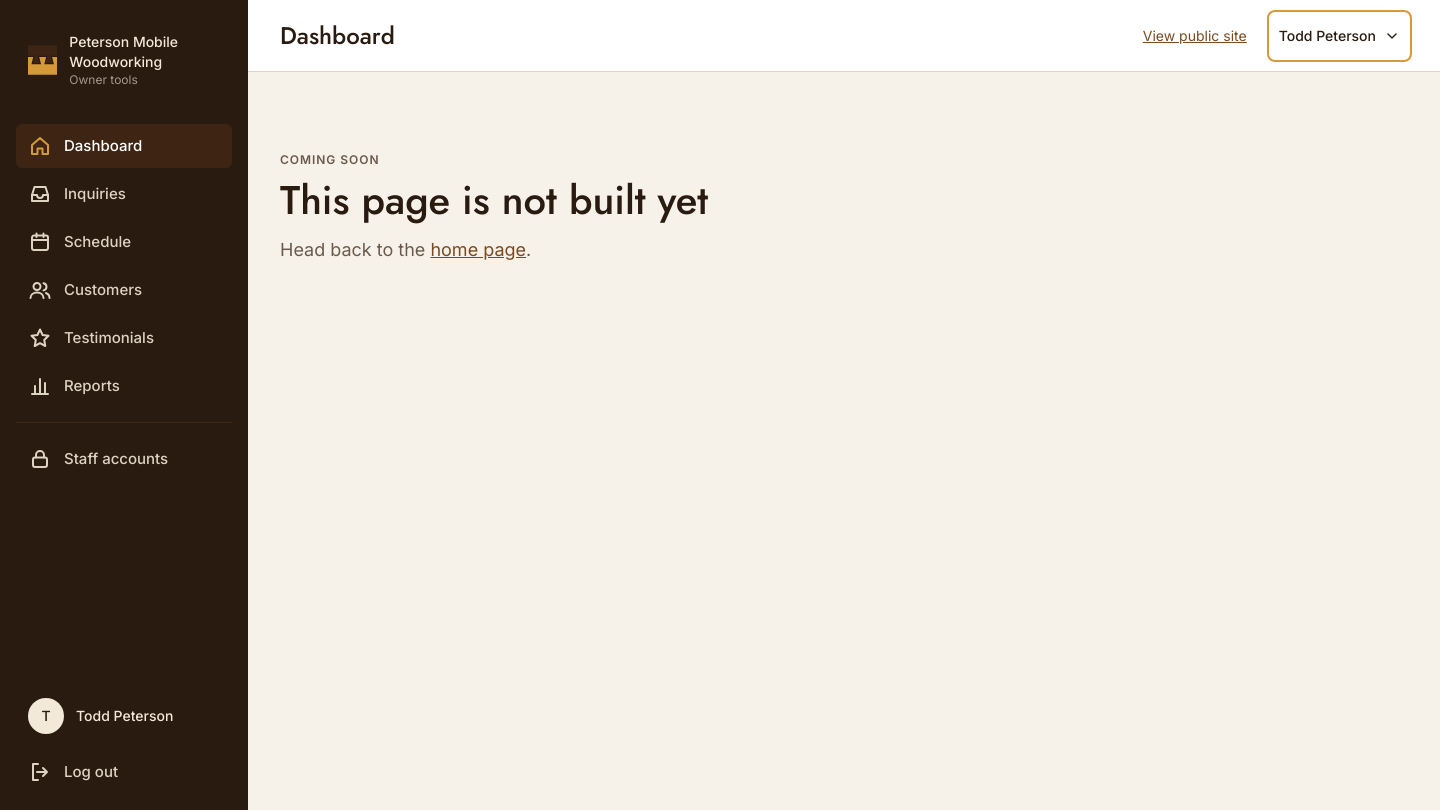
Test: Portal account logout with shared auth and route guards › supports keyboard opening and Escape, Tab, and outside dismissal
Press Arrowdown
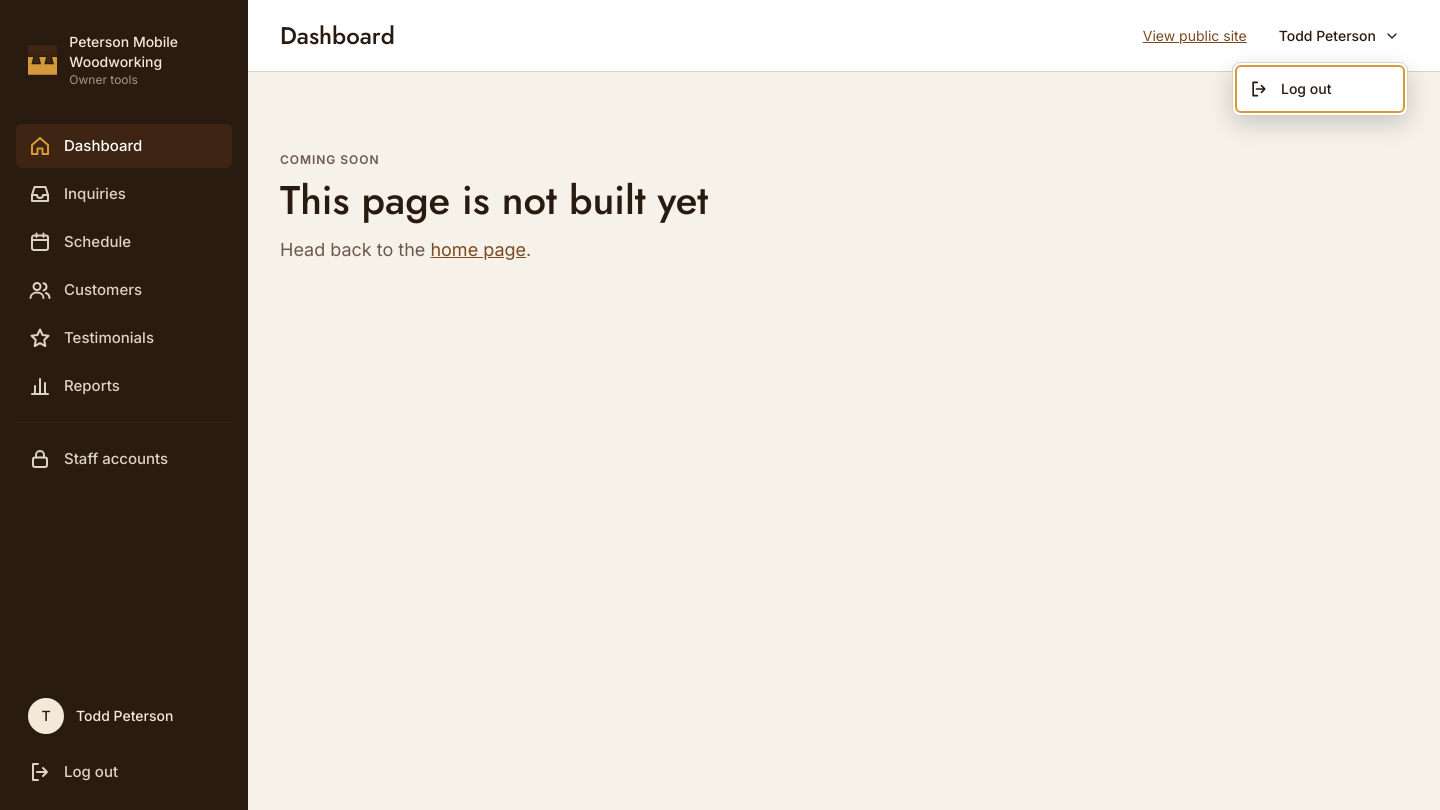
Press Escape
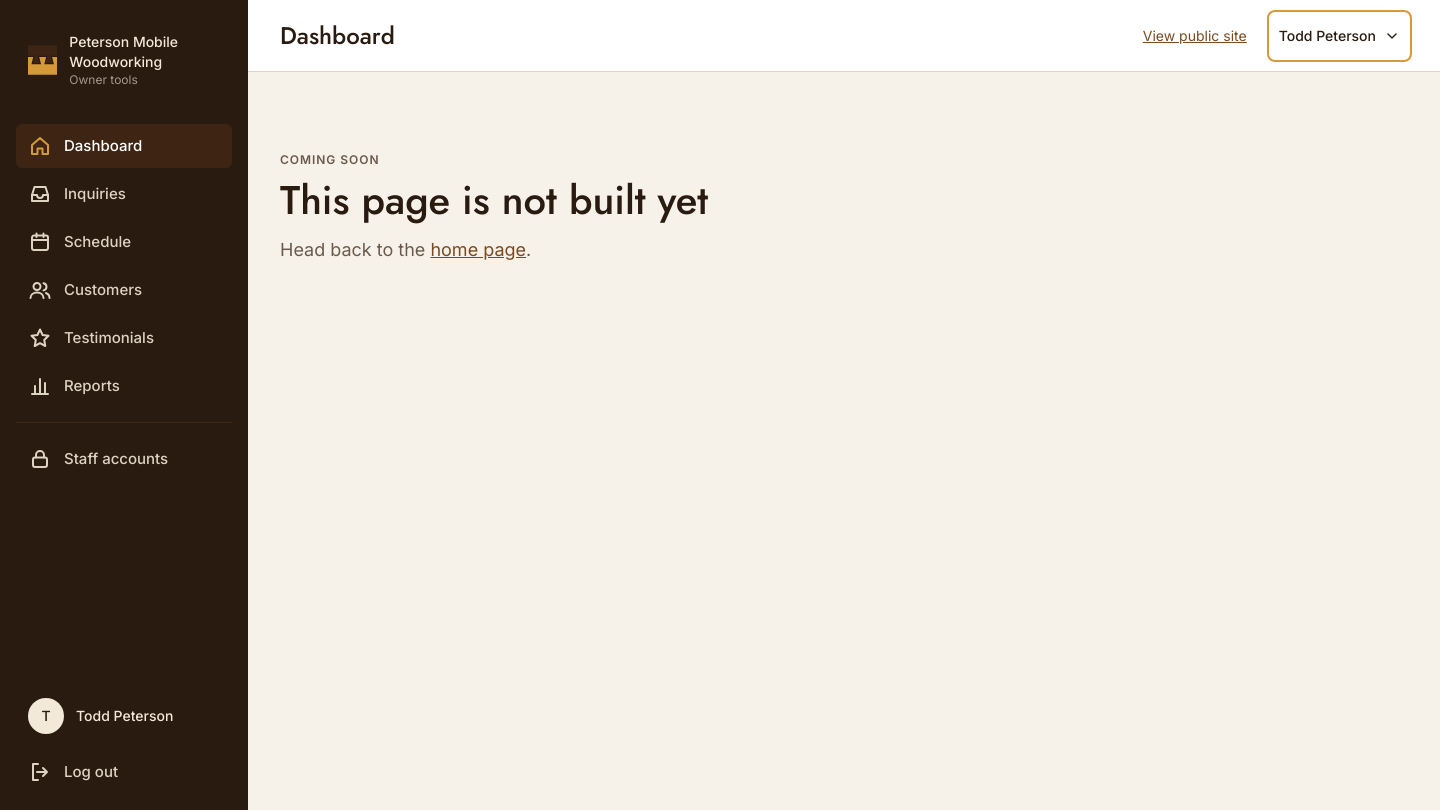
Now the menu is gone
Click the button with aria-label "Account menu for": click(1339, 36) [1271,14,1408,58]
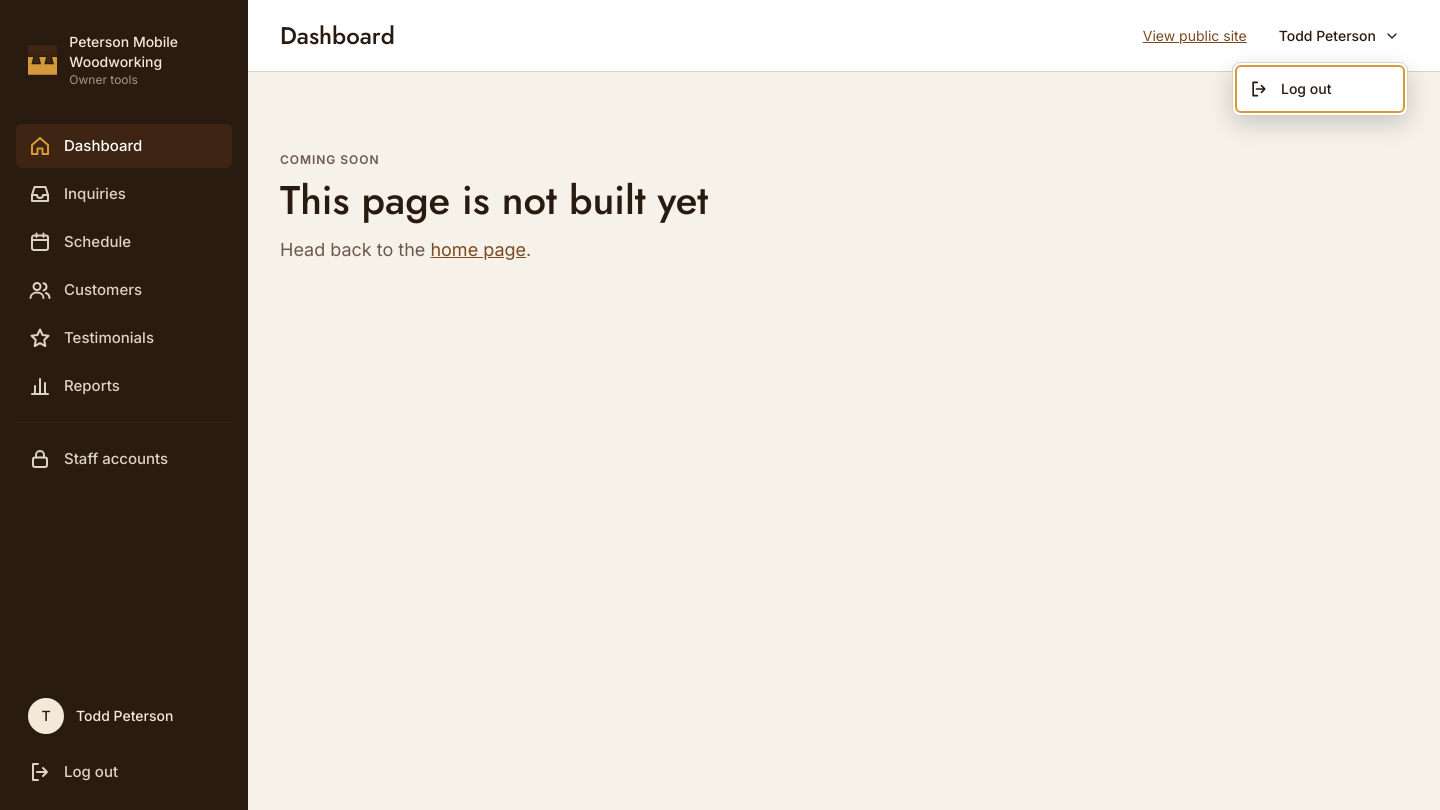
Press Tab
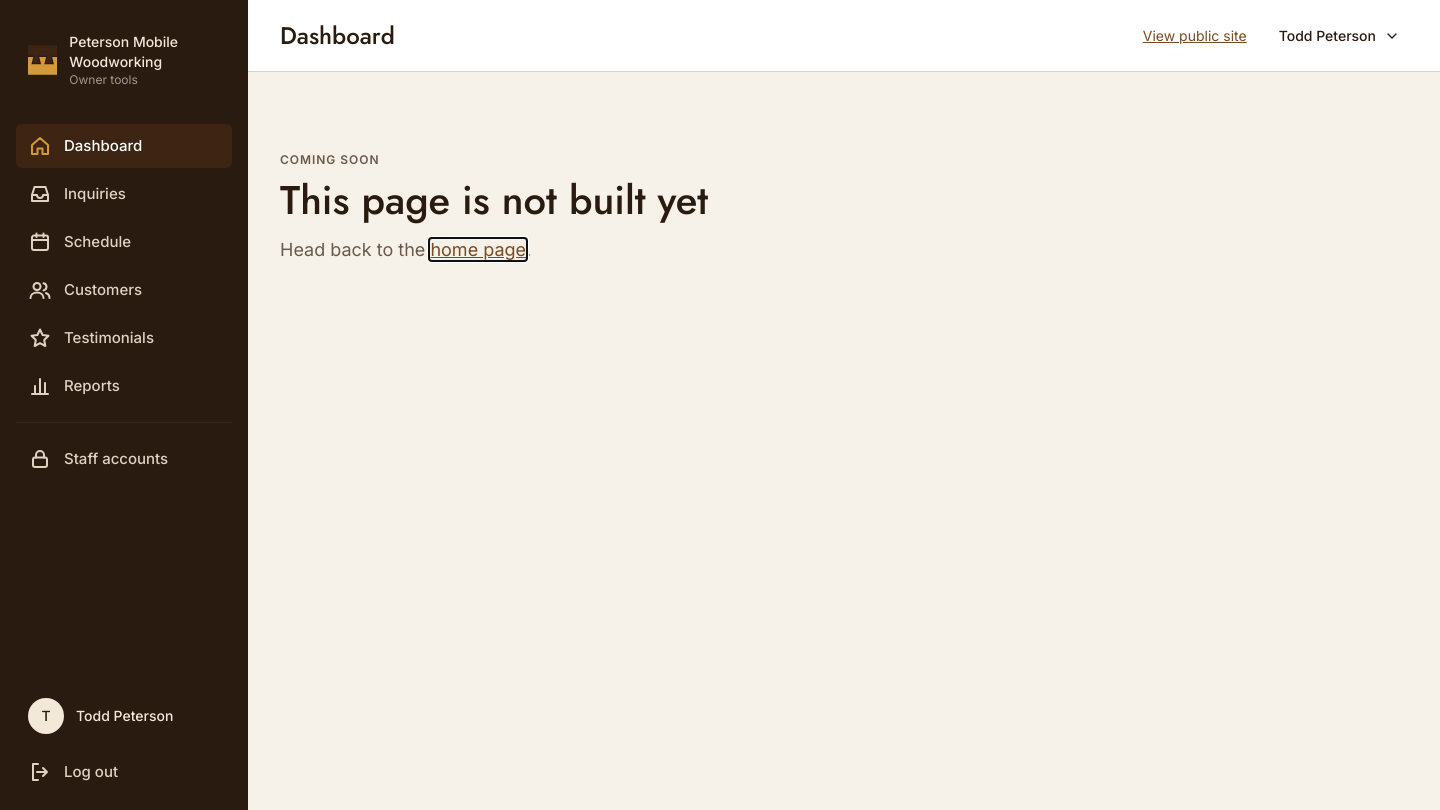
Now the menu is gone
Click the button with aria-label "Account menu for": click(1339, 36) [1271,14,1408,58]
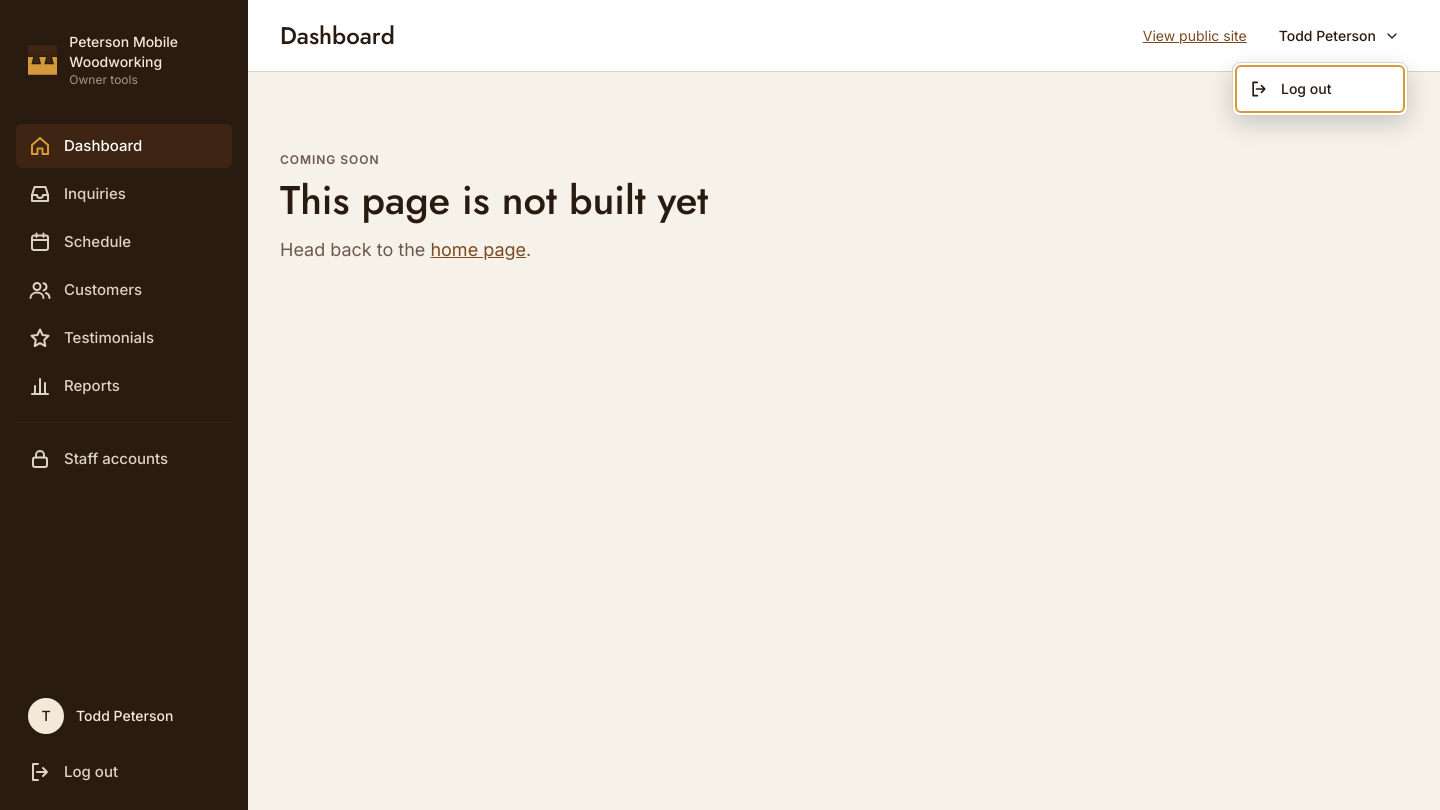
Click the text "Dashboard": click(337, 36) [280,20,395,52]
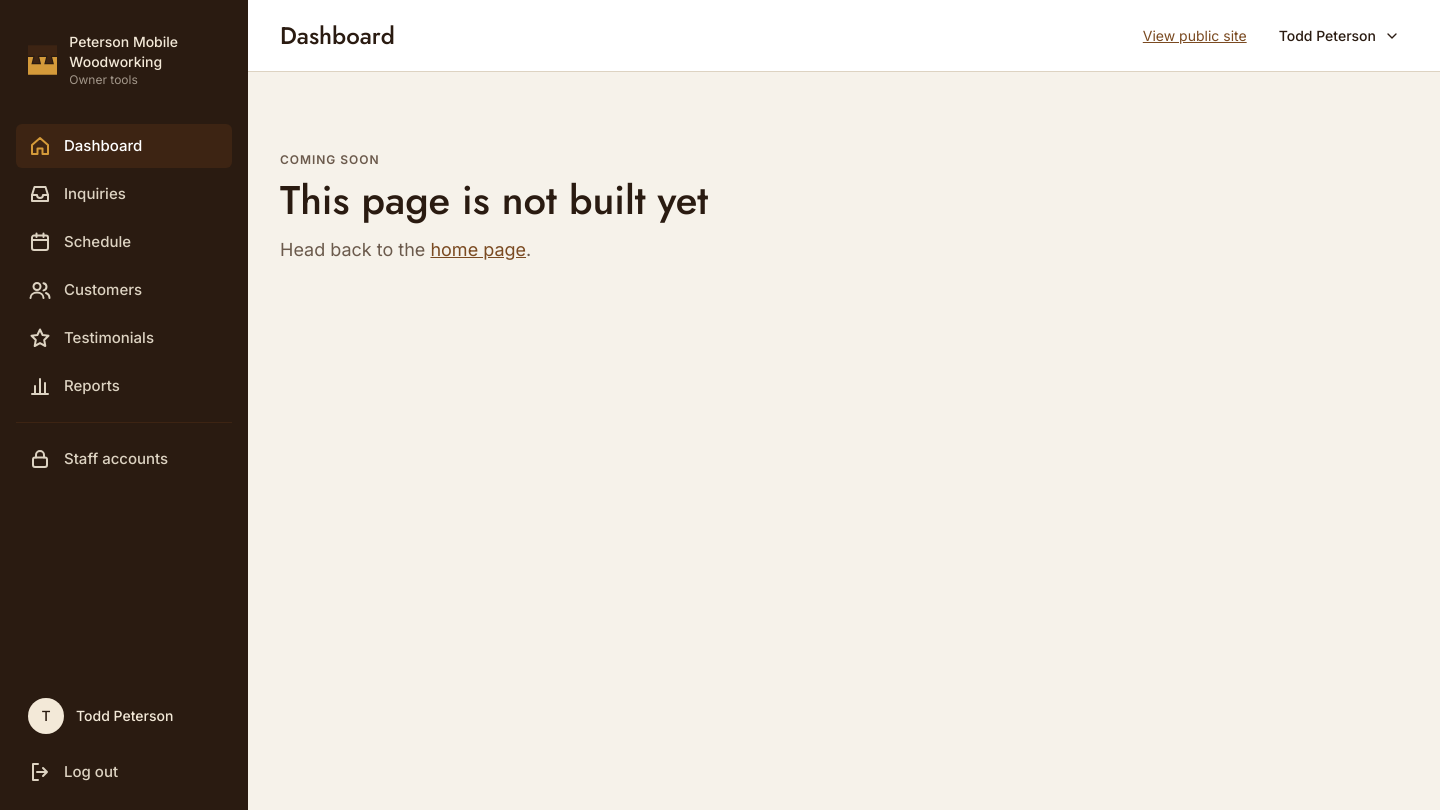
Now the menu is gone
